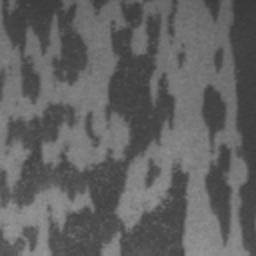Red iron sheet: (0, 0, 189, 256), (201, 0, 256, 256), (0, 67, 5, 104), (177, 51, 187, 68)
